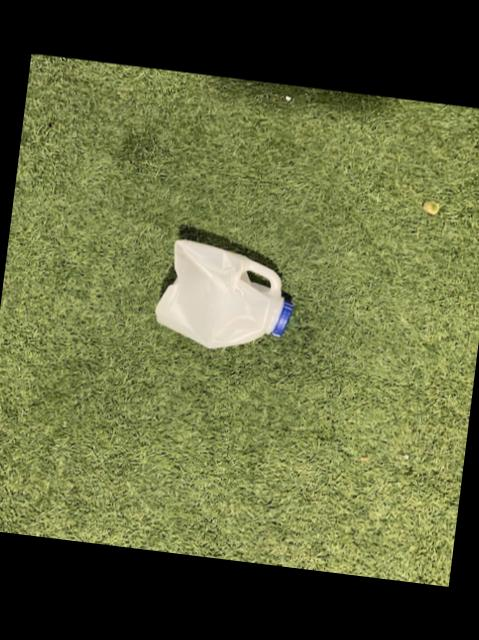plastic: (156, 238, 293, 347)
